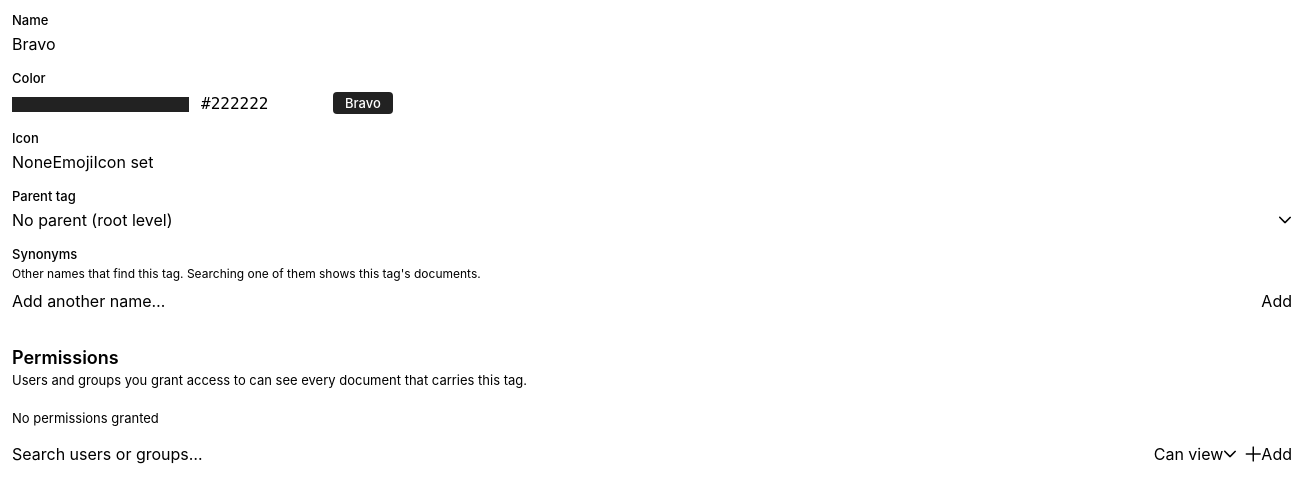
Test: TagForm — synonyms (#280) › warns when the word is another tag's SYNONYM, naming that tag
The width and height of the screenshot is (1304, 504).
Type "Erste" into the field with id "tag-synonym".
click(633, 301); type("Erste")  # box [12,291,1253,311]
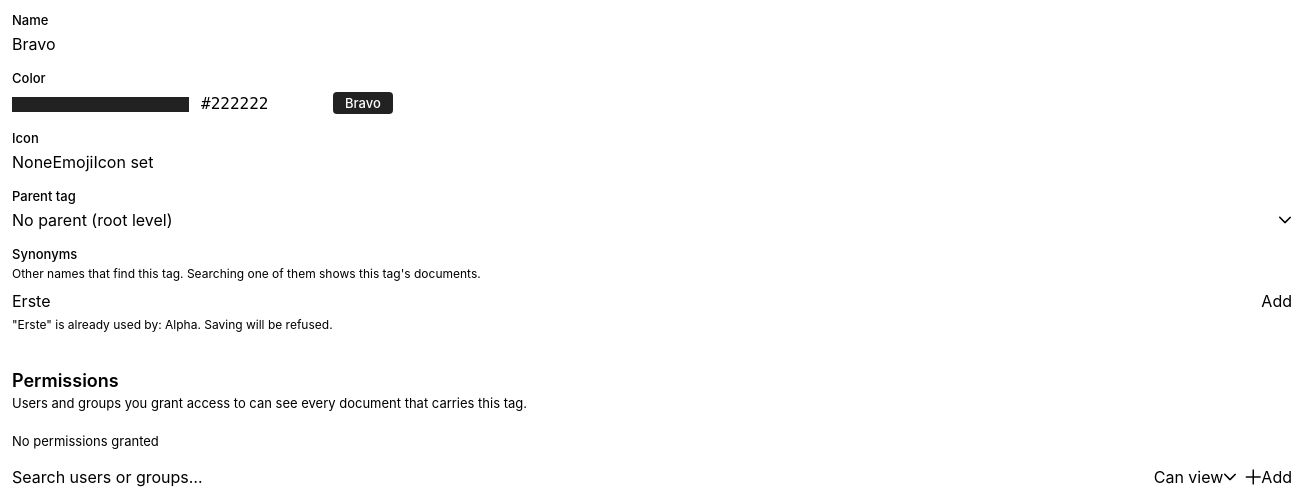
Expected: the message with class "synonym-notice" shows "Alpha", [12,317,333,332]
